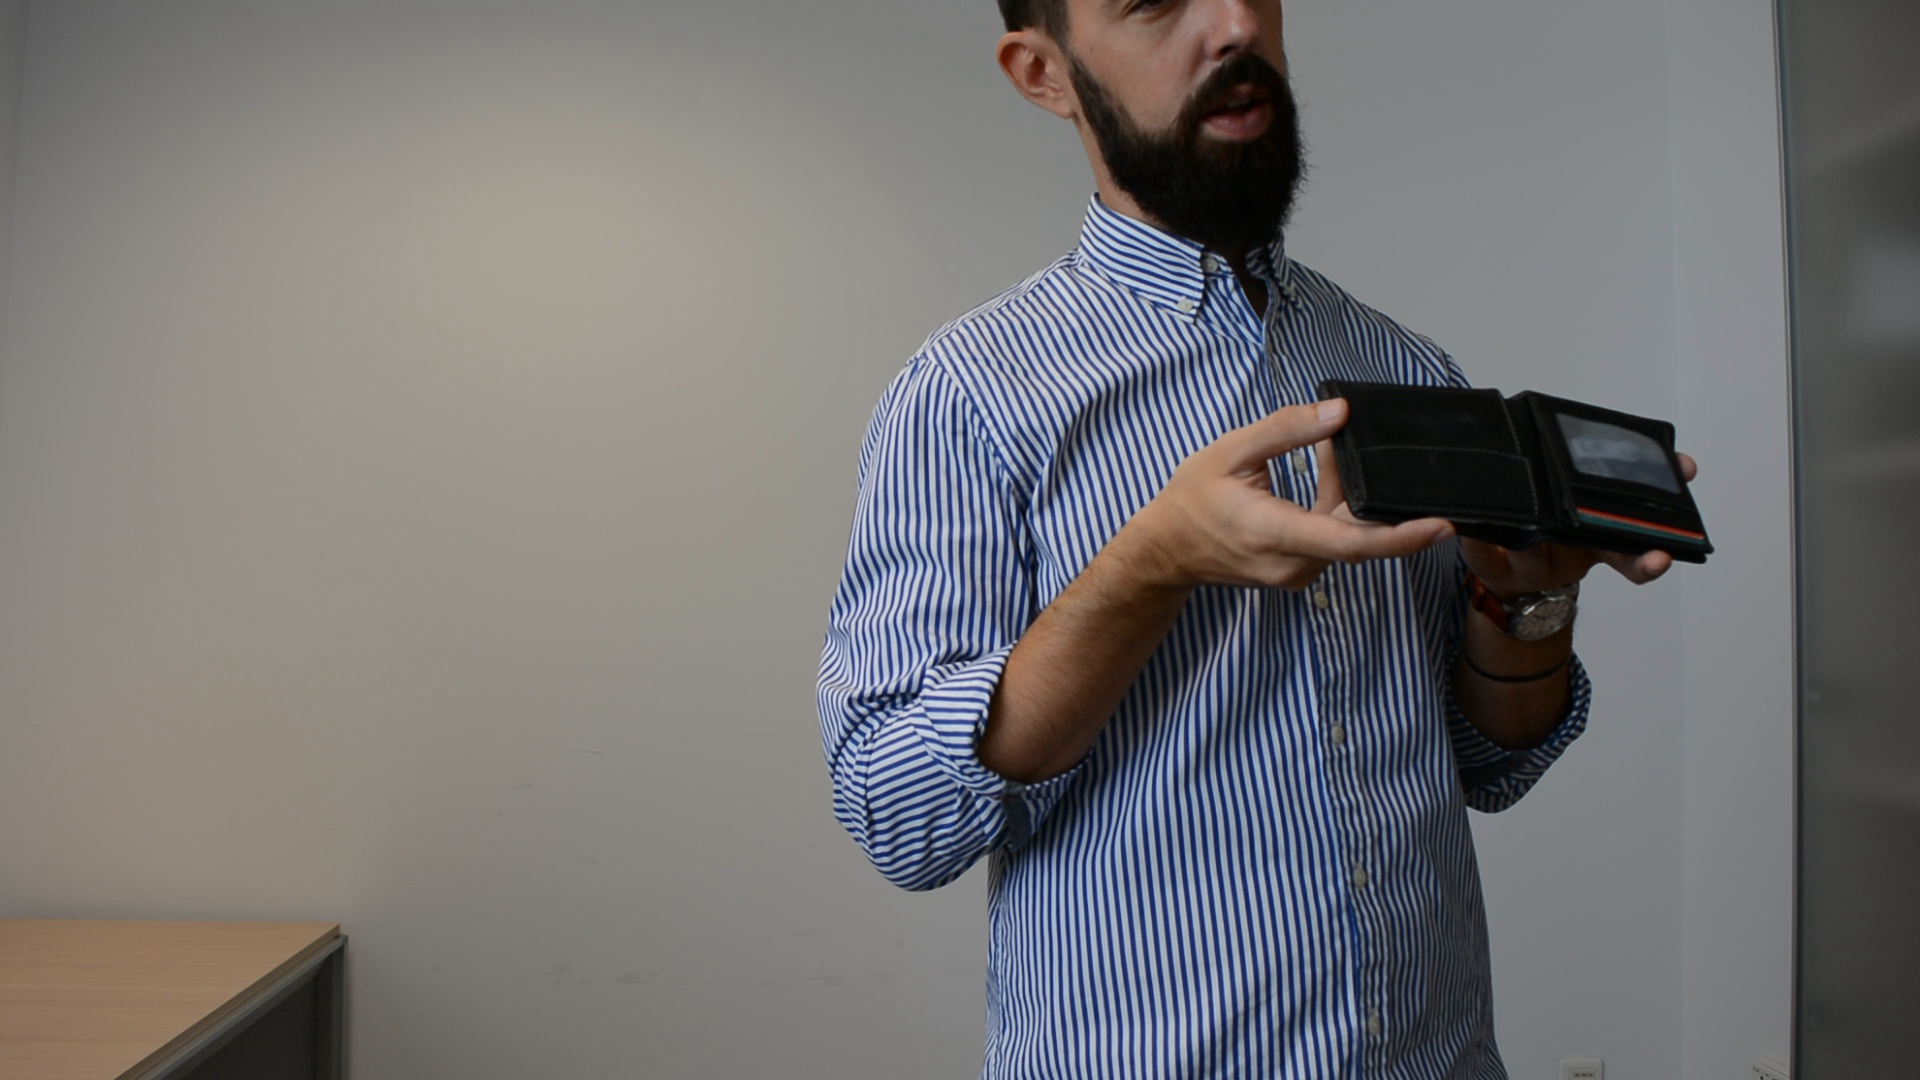monedero: (1315, 371, 1717, 566)
